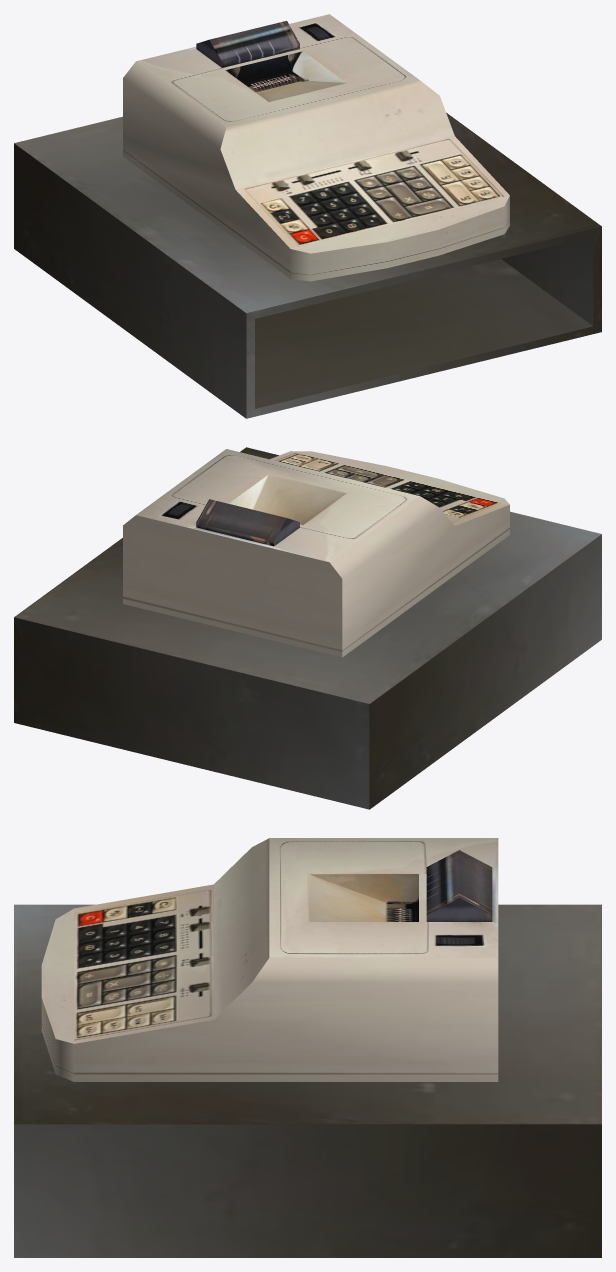
Rendered from aparat_kasowy.glb.
3 renders of one model, top to bottom at view 1: azimuth 30°, elevation 25°; view 2: azimuth 150°, elevation 25°; view 3: azimuth 270°, elevation 25°, orthographic. The views are drawn at different scales.
Visible parts, largest first — view 1: Szuflada, AparKasowy; view 2: Szuflada, AparKasowy; view 3: Szuflada, AparKasowy.
Part boxes in pixels (x1,y1,x2,y2): Szuflada: [14, 112, 601, 418]; AparKasowy: [123, 14, 509, 281]; Szuflada: [14, 447, 601, 809]; AparKasowy: [123, 449, 509, 657]; Szuflada: [14, 904, 601, 1257]; AparKasowy: [41, 838, 498, 1081].
Bounding box in the file's own units: 0.4552 × 0.2648 × 0.515.
Materials: 2 (2 with a texture image).
